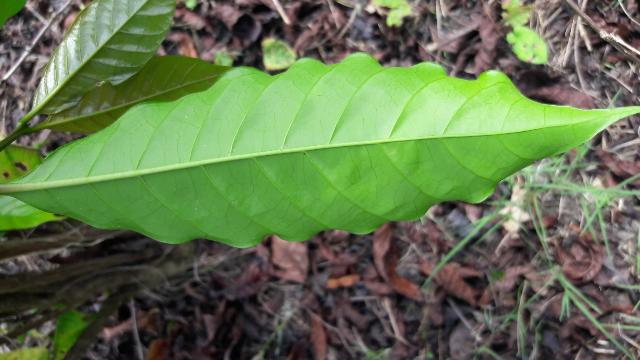healthy: (9, 69, 593, 238)
